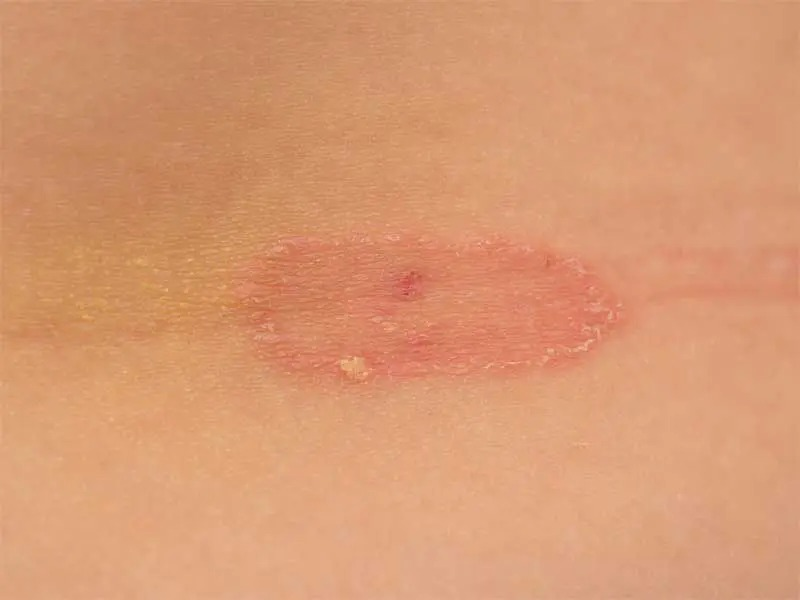Ringworm: (207, 205, 673, 433)
